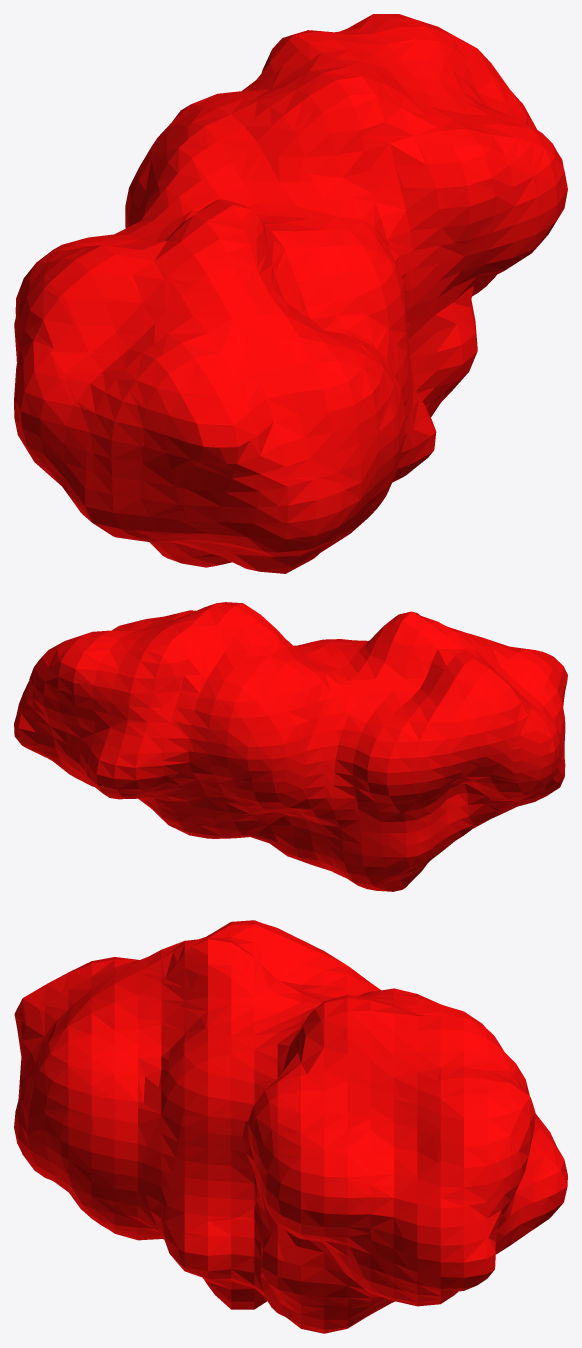
File: holC_coarse.dae
3 views of the same model, one above another, from view 1: azimuth 30°, elevation 25°; view 2: azimuth 150°, elevation 25°; view 3: azimuth 270°, elevation 25° (orthographic). The views are drawn at different scales.
Visible parts, largest first — view 1: holC; view 2: holC; view 3: holC.
Boxes of the visible parts, left/top/right/bottom form: holC: left=14, top=14, right=567, bottom=573; holC: left=14, top=602, right=567, bottom=891; holC: left=14, top=920, right=567, bottom=1333.
Bounding box in the file's own units: 69.58 × 41.35 × 58.41.
